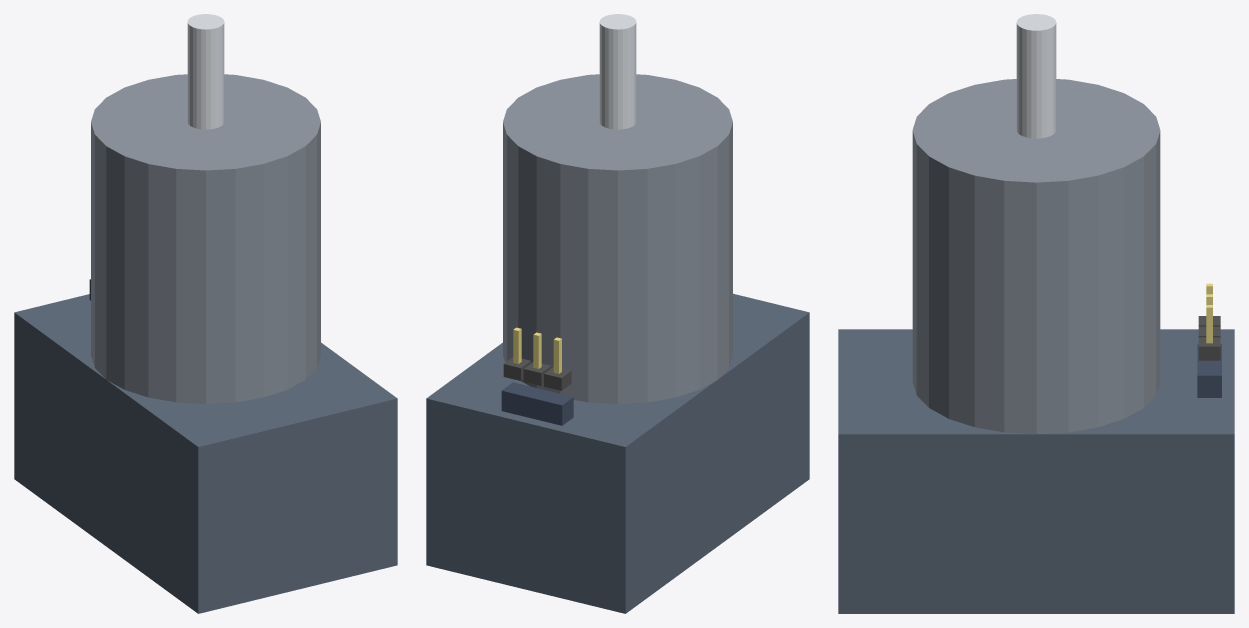
File: bldc-motor-2212-1000kv.glb
3 views of the same model, side by side, from view 1: azimuth 30°, elevation 25°; view 2: azimuth 150°, elevation 25°; view 3: azimuth 270°, elevation 25° (orthographic). The views are drawn at different scales.
Visible parts, largest first — view 1: bldc-motor-2212-1000kv_mesh; view 2: bldc-motor-2212-1000kv_mesh; view 3: bldc-motor-2212-1000kv_mesh.
Part boxes in pixels (bbox=[...]): bldc-motor-2212-1000kv_mesh: bbox=[14, 14, 397, 613]; bldc-motor-2212-1000kv_mesh: bbox=[426, 14, 809, 613]; bldc-motor-2212-1000kv_mesh: bbox=[838, 14, 1234, 613].
Size of the model in its own units: 25 by 60 by 40.
